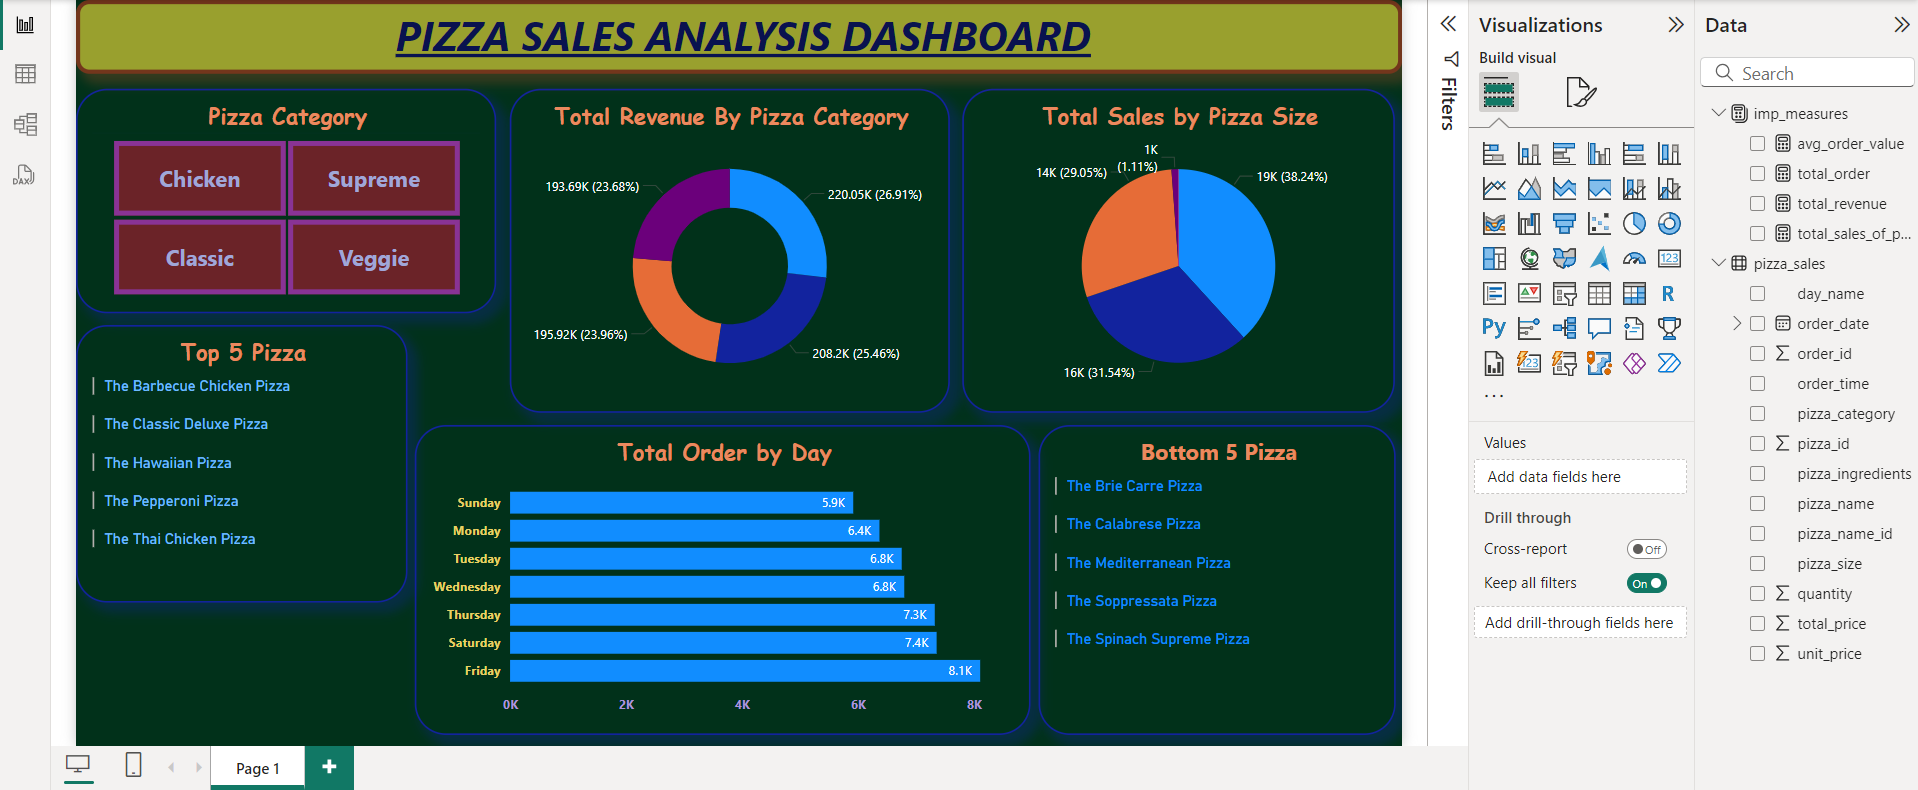

The dashboard page shown, as its layout file describes it:
{"tool":"powerbi","page":{"name":"Page 1","canvas":[1280,720],"ordinal":0},"visuals":[{"type":"slicer","title":"Pizza Category","fields":{"Values":["pizza_sales.pizza_category"]},"box":[0,85.7,405.4,217.2],"z":0},{"type":"donutChart","title":"Total Revenue By Pizza Category","fields":{"Category":["pizza_sales.pizza_category"],"Y":["imp_measures.total_revenue"]},"box":[418.6,85.7,424.7,312.5],"z":1000},{"type":"multiRowCard","title":"Bottom 5 Pizza","fields":{"Values":["pizza_sales.pizza_name"]},"box":[929,410.2,345,299.2],"z":2000},{"type":"multiRowCard","title":"Top 5 Pizza","fields":{"Values":["pizza_sales.pizza_name"]},"box":[0,313.7,319.7,267.8],"z":3000},{"type":"pieChart","title":"Total Sales by Pizza Size","fields":{"Category":["pizza_sales.pizza_size"],"Y":["imp_measures.total_sales_of_pizza"]},"box":[855.4,85.7,417.4,312.5],"z":4000},{"type":"barChart","title":"Total Order by Day","fields":{"Category":["pizza_sales.Day_name"],"Y":["imp_measures.total_order"]},"box":[326.9,410.2,594.8,299.2],"z":5000},{"type":"textbox","title":"PIZZA SALES ANALYSIS DASHBOARD","box":[0,0,1280,71.2],"z":6000}]}

Visuals, with their boxes in screenshot pixels (x1, y1, x2, y2):
"Pizza Category" slicer: (70,89,493,316)
"Total Revenue By Pizza Category" donutChart: (506,89,949,415)
"Bottom 5 Pizza" multiRowCard: (1039,428,1398,740)
"Top 5 Pizza" multiRowCard: (70,327,403,606)
"Total Sales by Pizza Size" pieChart: (962,89,1397,415)
"Total Order by Day" barChart: (411,428,1031,740)
"PIZZA SALES ANALYSIS DASHBOARD" textbox: (70,0,1404,74)
